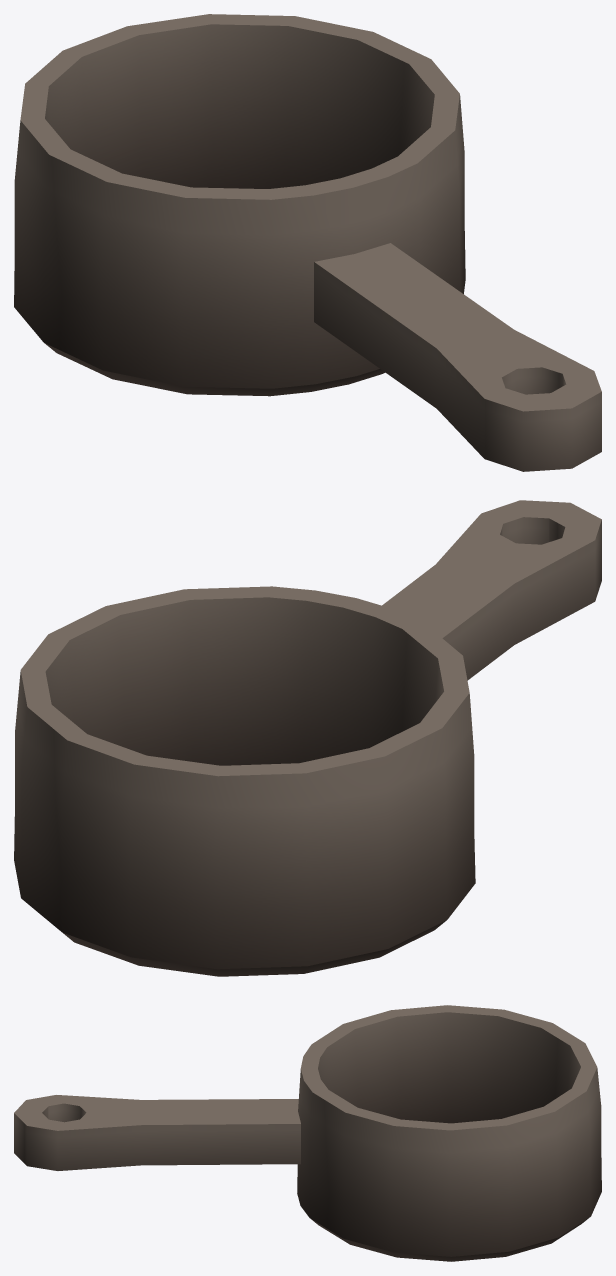
The model's file is obj_FryingPan.fbx.
The picture shows the model from 3 angles, top to bottom: view 1: azimuth 30°, elevation 25°; view 2: azimuth 150°, elevation 25°; view 3: azimuth 270°, elevation 25°; orthographic projection. The views are drawn at different scales.
Parts seen in each view (by area): view 1: obj_FryingPan; view 2: obj_FryingPan; view 3: obj_FryingPan.
Boxes of the visible parts, x1,y1,x2,y2 form: obj_FryingPan: (14, 14, 601, 471); obj_FryingPan: (14, 500, 601, 976); obj_FryingPan: (14, 1005, 601, 1261).
Bounding box in the file's own units: 31.29 × 15.15 × 60.35.
